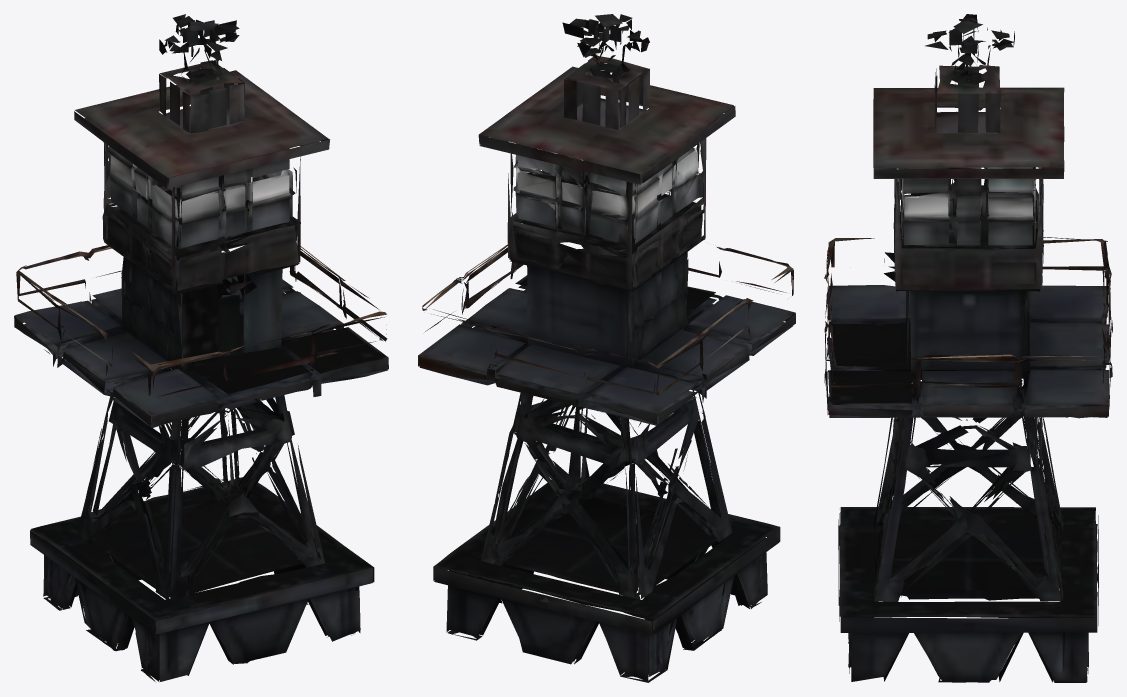
Rendered from wobani-watchtower.lo.glb.
3 renders of one model, left to right at view 1: azimuth 30°, elevation 25°; view 2: azimuth 150°, elevation 25°; view 3: azimuth 270°, elevation 25°, orthographic. The views are drawn at different scales.
Parts seen in each view (by area): view 1: low; view 2: low; view 3: low.
Part boxes in pixels (<box>): low: <box>14,14,388,681</box>; low: <box>418,14,795,682</box>; low: <box>824,14,1112,682</box>.
Bounding box in the file's own units: 0.4318 × 1.01 × 0.4332.
1 material, 1 textured.
